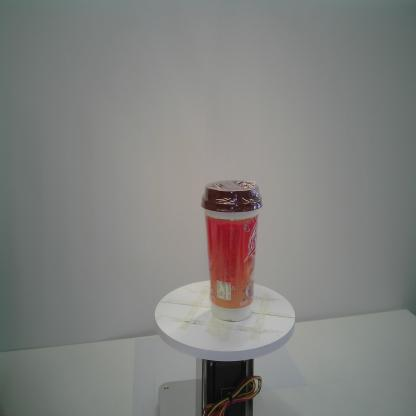Instant Drink: (201, 177, 265, 325)
